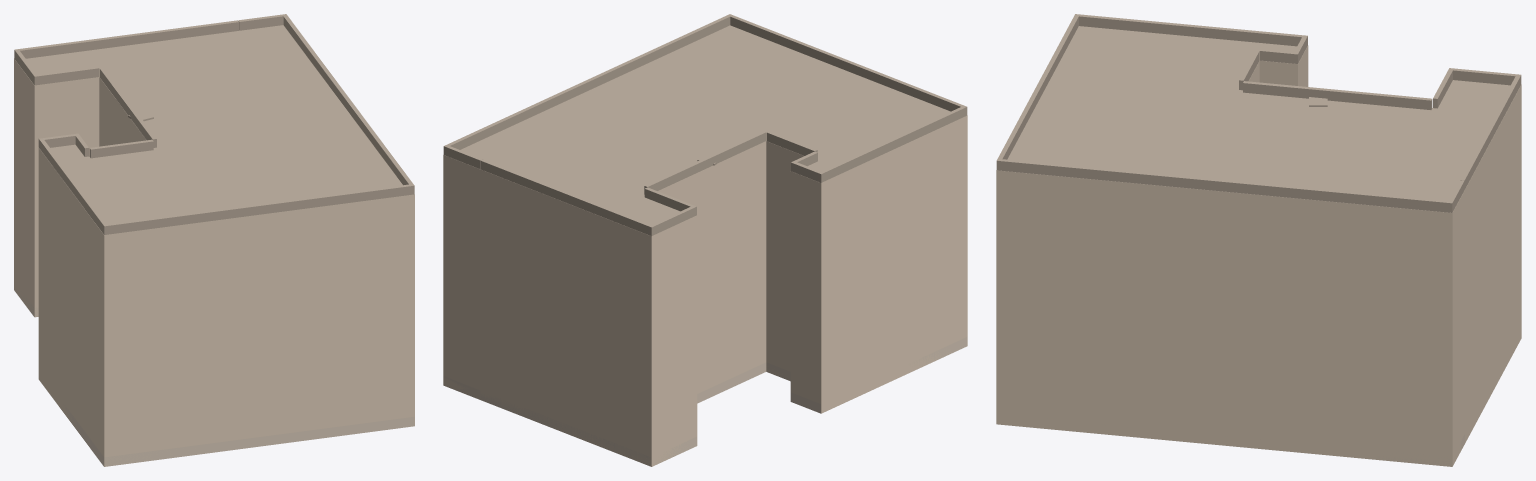
Rendered from cop_predio_historico_01__way_134013926.fbx.
The picture shows the model from 3 angles, left to right: view 1: azimuth 30°, elevation 25°; view 2: azimuth 150°, elevation 25°; view 3: azimuth 270°, elevation 25°; orthographic projection. The views are drawn at different scales.
Parts seen in each view (by area): view 1: cop_predio_historico_01__way_134013926_wall, cop_predio_historico_01__way_134013926_roof, cop_predio_historico_01__way_134013926_stone; view 2: cop_predio_historico_01__way_134013926_wall, cop_predio_historico_01__way_134013926_roof, cop_predio_historico_01__way_134013926_stone; view 3: cop_predio_historico_01__way_134013926_wall, cop_predio_historico_01__way_134013926_roof.
Boxes of the visible parts, box(x1,y1,x2,y2) form: cop_predio_historico_01__way_134013926_wall: box(14, 58, 414, 466); cop_predio_historico_01__way_134013926_roof: box(14, 14, 414, 235); cop_predio_historico_01__way_134013926_stone: box(16, 292, 414, 466); cop_predio_historico_01__way_134013926_wall: box(443, 115, 967, 466); cop_predio_historico_01__way_134013926_roof: box(443, 14, 967, 236); cop_predio_historico_01__way_134013926_stone: box(443, 337, 967, 466); cop_predio_historico_01__way_134013926_wall: box(996, 45, 1521, 466); cop_predio_historico_01__way_134013926_roof: box(996, 14, 1521, 212).
Bounding box in the file's own units: 2882 × 1869 × 3376.
